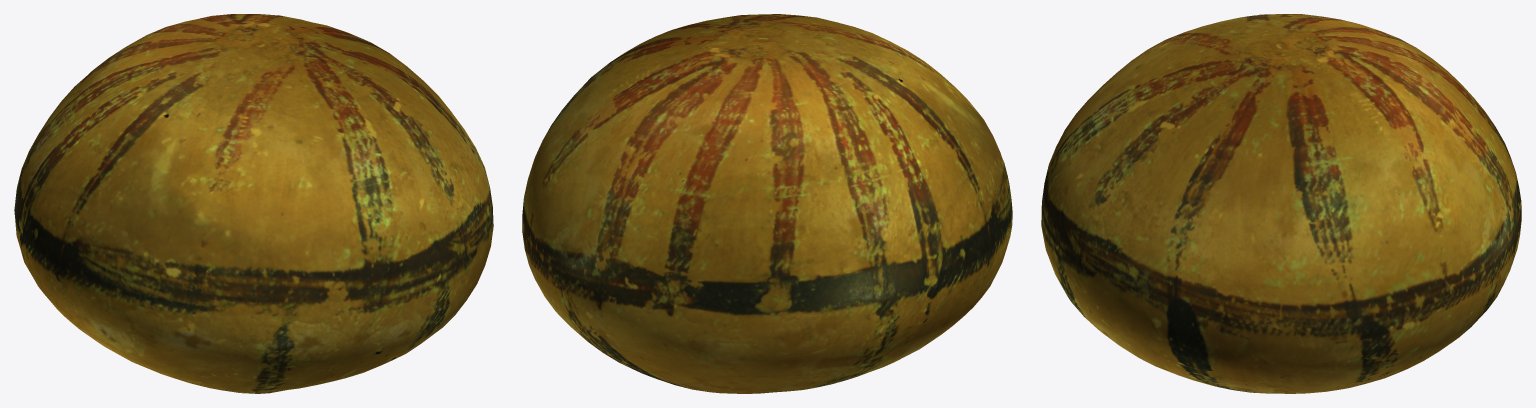
Rendered from sonaglio.glb.
3 renders of one model, left to right at view 1: azimuth 30°, elevation 25°; view 2: azimuth 150°, elevation 25°; view 3: azimuth 270°, elevation 25°, orthographic. The views are drawn at different scales.
Parts seen in each view (by area): view 1: sonaglio_lowpoly; view 2: sonaglio_lowpoly; view 3: sonaglio_lowpoly.
Part boxes in pixels (x1,y1,x2,y2): sonaglio_lowpoly: [14, 14, 493, 393]; sonaglio_lowpoly: [522, 14, 1012, 393]; sonaglio_lowpoly: [1041, 14, 1521, 393].
Bounding box in the file's own units: 4.01 × 2.98 × 4.01.
Materials: 1 (1 with a texture image).
